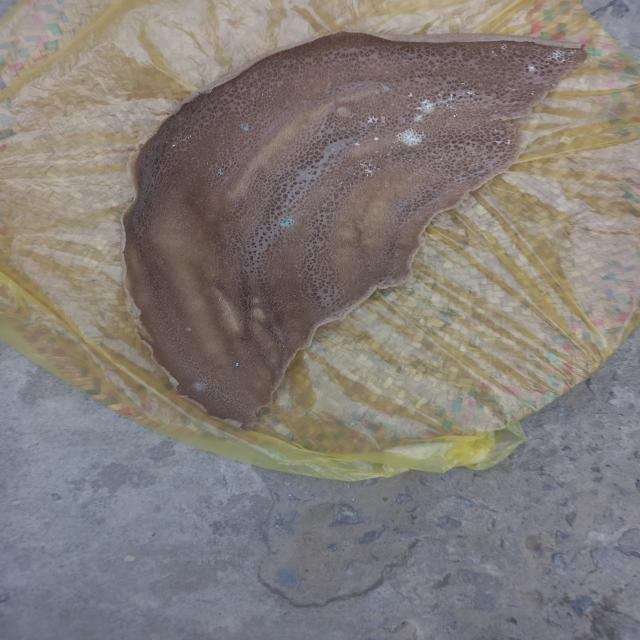injera_mold: (409, 96, 446, 124), (392, 127, 428, 149), (546, 47, 578, 65), (356, 159, 384, 179), (494, 135, 517, 148), (277, 216, 297, 228), (363, 114, 381, 127), (523, 62, 542, 74), (191, 380, 209, 392), (238, 121, 253, 132), (214, 168, 229, 178)
